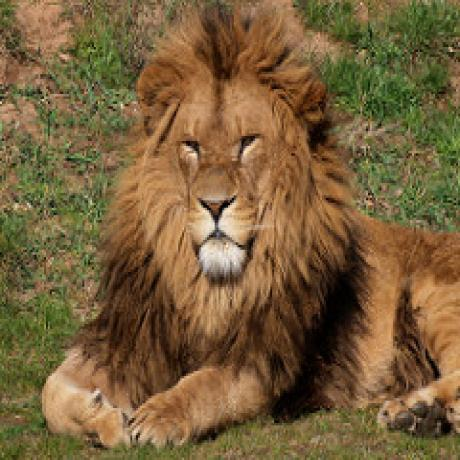Lion: (40, 0, 460, 450)
